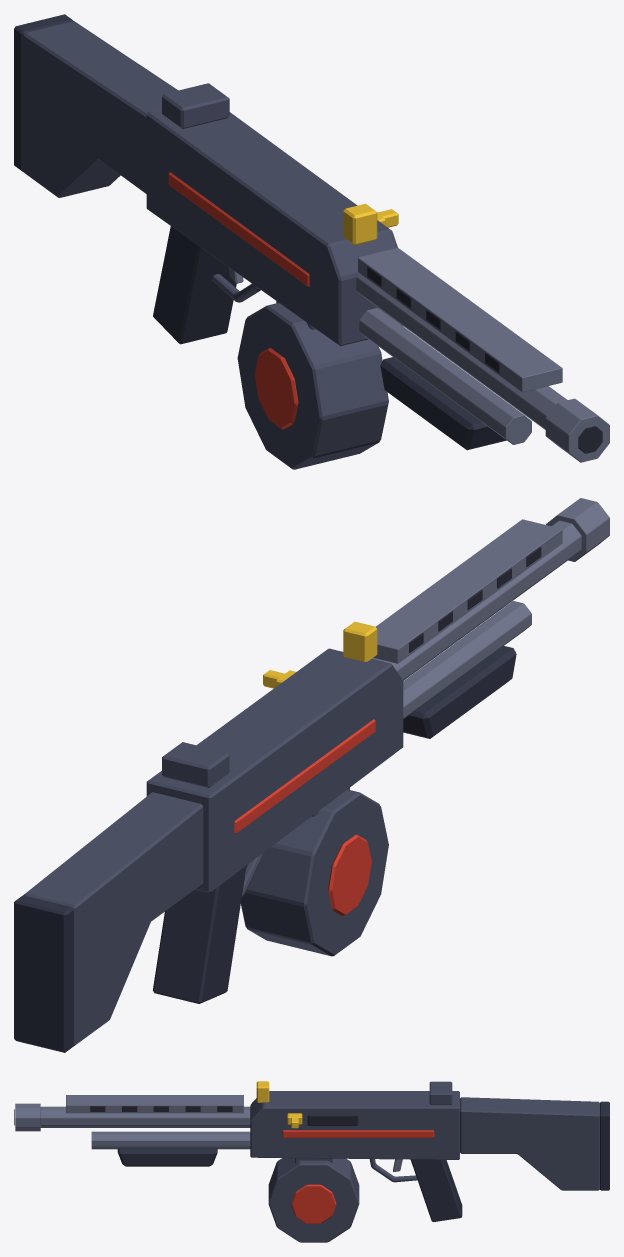
Rendered from myw_autoshotgun.glb.
3 views of the same model, one above another, from view 1: azimuth 30°, elevation 25°; view 2: azimuth 150°, elevation 25°; view 3: azimuth 270°, elevation 25° (orthographic). The views are drawn at different scales.
Visible parts, largest first — view 1: Body, Barrel, Drum, Forend; view 2: Body, Barrel, Drum, Forend; view 3: Body, Barrel, Drum, Forend.
Boxes of the visible parts, <box> form: Body: <box>14,14,402,346</box>; Barrel: <box>356,248,609,462</box>; Drum: <box>237,301,388,469</box>; Forend: <box>380,357,506,450</box>; Body: <box>14,621,403,1052</box>; Barrel: <box>372,498,609,718</box>; Drum: <box>241,788,388,956</box>; Forend: <box>403,646,516,738</box>; Body: <box>250,1081,609,1221</box>; Barrel: <box>14,1095,250,1149</box>; Drum: <box>268,1158,359,1242</box>; Forend: <box>117,1148,217,1166</box>.
Bounding box in the file's own units: 0.51 × 1.3 × 4.69.
